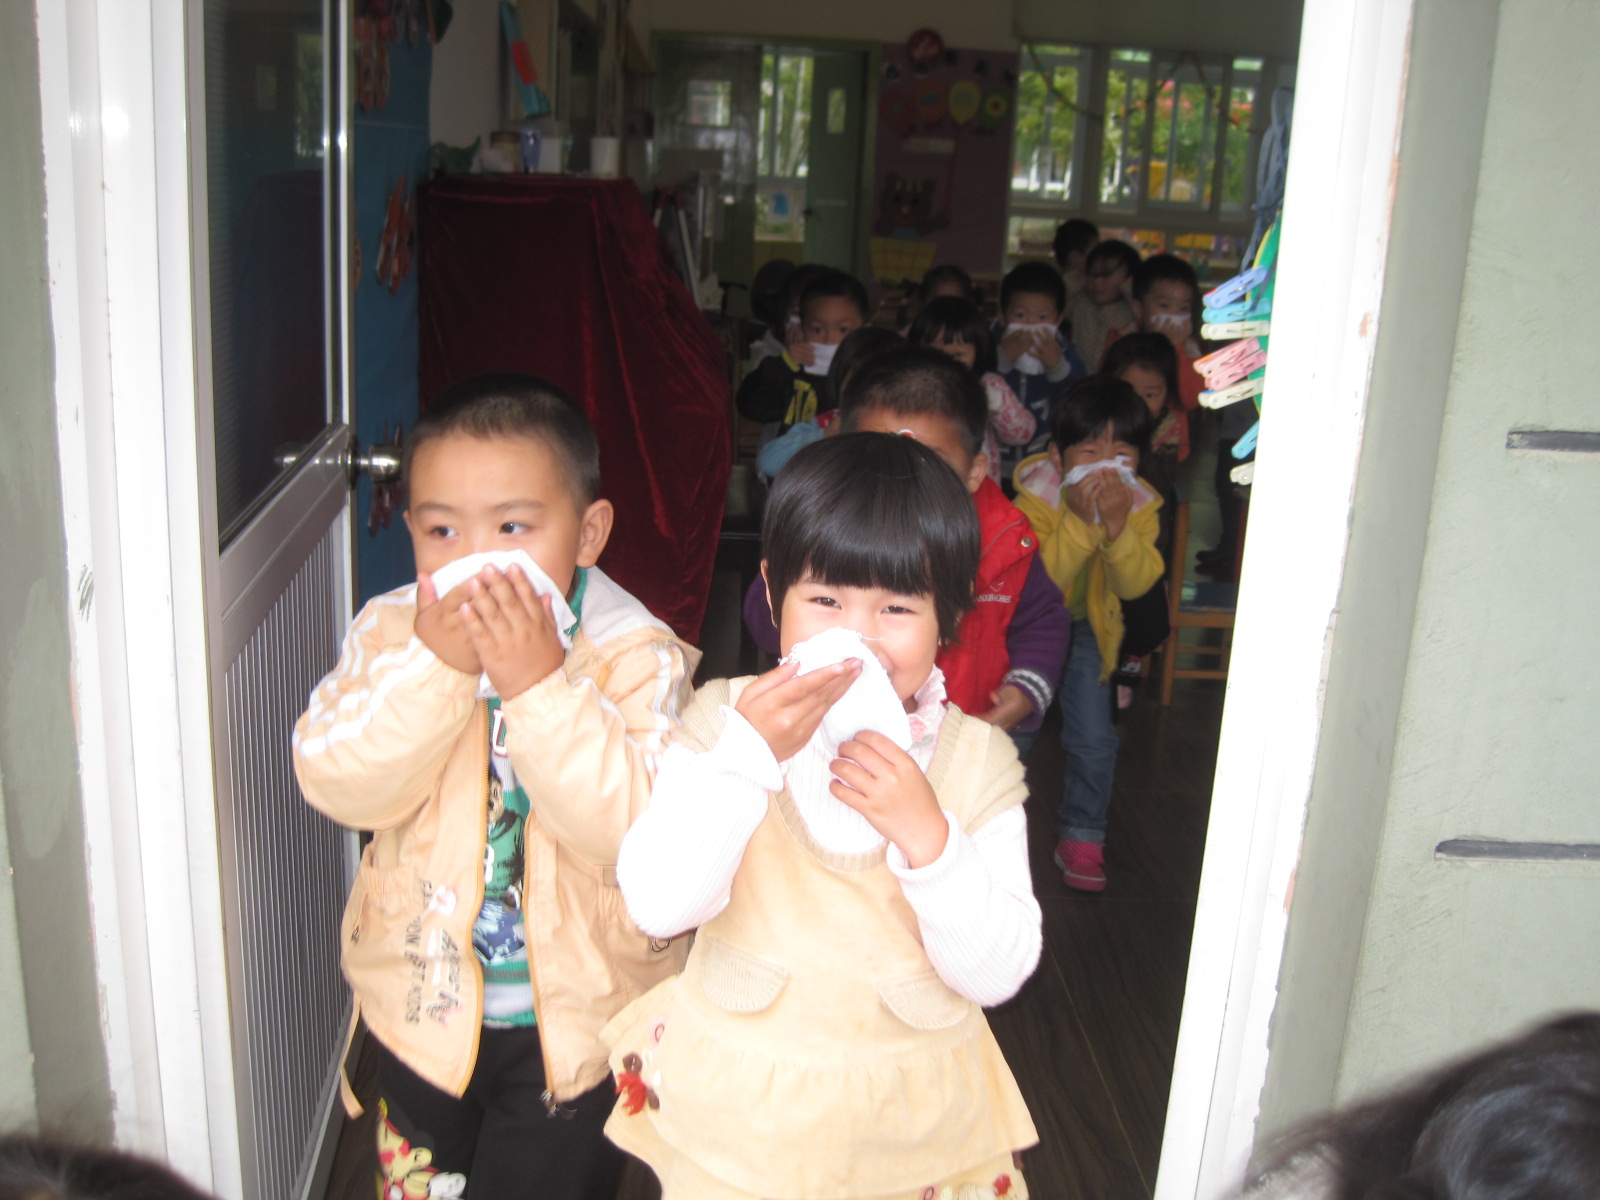face: (406, 439, 584, 612), (782, 558, 926, 720), (1107, 366, 1168, 430), (1081, 259, 1122, 298)
face_mask: (795, 296, 862, 365), (1144, 283, 1193, 333), (1006, 291, 1051, 333)
